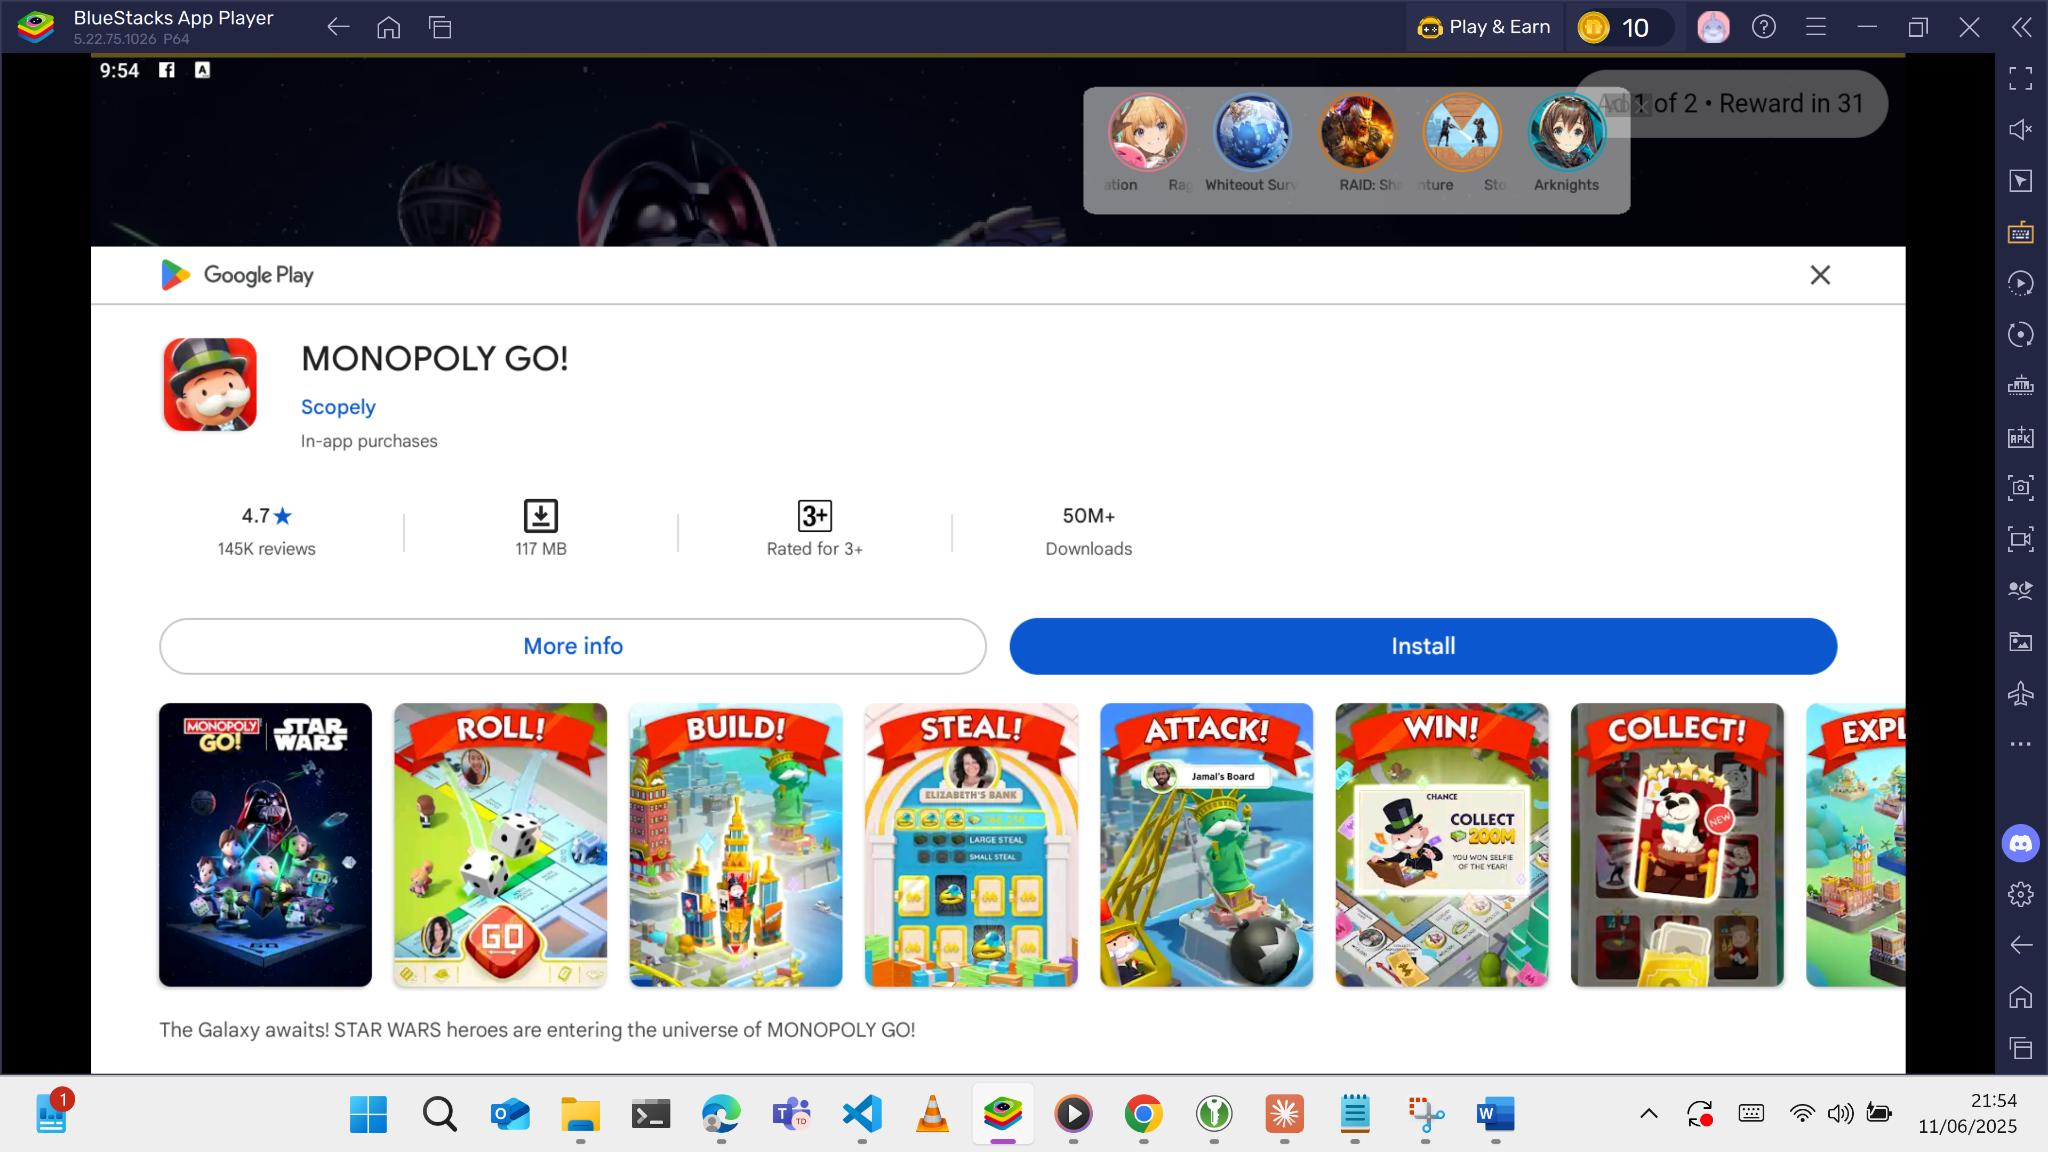close_ad: (1809, 264, 1833, 286)
